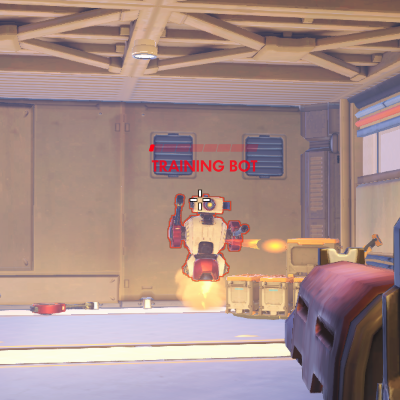hpbar: (149, 144, 258, 152)
